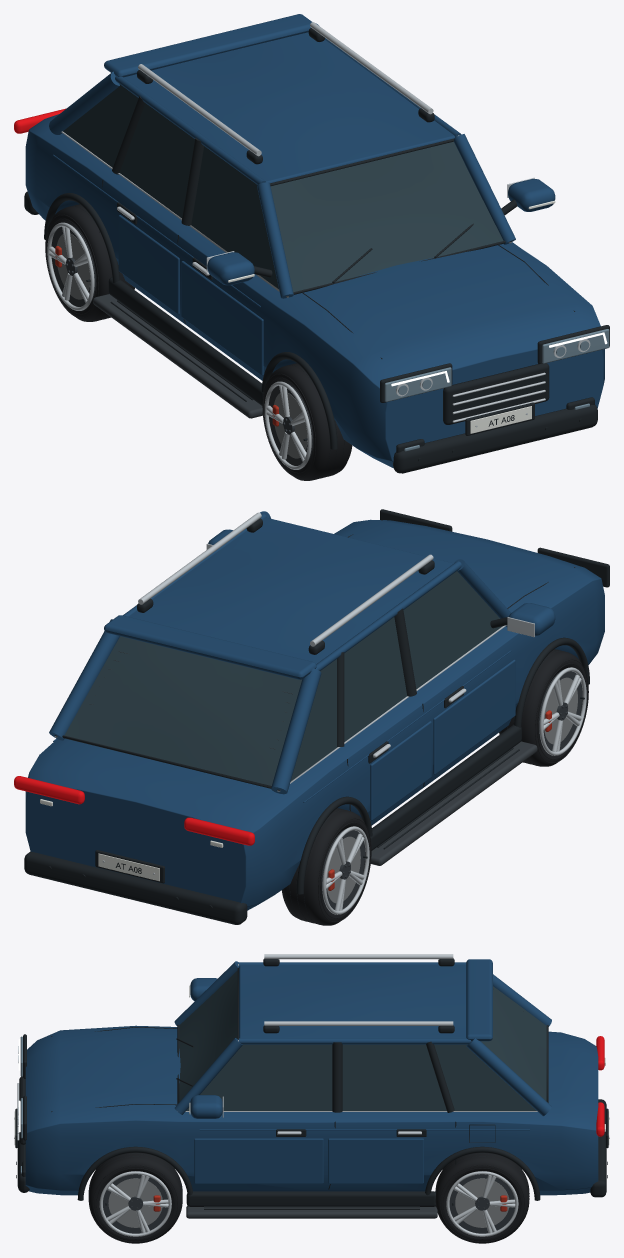
File: suv.glb
3 renders of one model, top to bottom at view 1: azimuth 30°, elevation 25°; view 2: azimuth 150°, elevation 25°; view 3: azimuth 270°, elevation 25°, orthographic. The views are drawn at different scales.
Parts seen in each view (by area): view 1: SUV continuous sculpted body.002, SUV gently crowned roof.002, SUV curved laminated windscreen.002, SUV fitted side glazing.004, SUV pressed door skin.011, SUV front lower valance.002, SUV rear roof spoiler.002, SUV pressed door skin.009, SUV pneumatic tyre.010, SUV rocker sill.005, SUV front radiator grille.002, SUV aluminium running board.004 (+21 smaller); view 2: SUV continuous sculpted body.002, SUV gently crowned roof.002, SUV curved rear screen.002, SUV fitted side glazing.004, SUV rear bumper.002, SUV pressed door skin.011, SUV rear roof spoiler.002, SUV pressed door skin.009, SUV pneumatic tyre.008, SUV rocker sill.005, SUV aluminium running board.004, SUV pneumatic tyre.010 (+24 smaller); view 3: SUV continuous sculpted body.002, SUV fitted side glazing.005, SUV gently crowned roof.002, SUV pressed door skin.010, SUV pressed door skin.008, SUV curved laminated windscreen.002, SUV curved rear screen.002, SUV rocker sill.004, SUV pneumatic tyre.011, SUV pneumatic tyre.009, SUV aluminium running board.005, SUV rear roof spoiler.002 (+23 smaller).
Part boxes in pixels (x1,y1,x2,y2): SUV continuous sculpted body.002: (25,114,604,468); SUV gently crowned roof.002: (124,32,454,183); SUV curved laminated windscreen.002: (270,141,503,292); SUV fitted side glazing.004: (63,84,278,289); SUV pressed door skin.011: (181,261,263,375); SUV front lower valance.002: (393,405,597,473); SUV rear roof spoiler.002: (104,14,311,77); SUV pressed door skin.009: (118,215,179,314); SUV pneumatic tyre.010: (263,363,352,480); SUV rocker sill.005: (108,277,263,405); SUV front radiator grille.002: (443,363,549,424); SUV aluminium running board.004: (93,294,262,418); SUV continuous sculpted body.002: (25,519,604,910); SUV gently crowned roof.002: (128,517,453,663); SUV curved rear screen.002: (64,636,302,785); SUV fitted side glazing.004: (290,571,502,781); SUV rear bumper.002: (24,851,247,924); SUV pressed door skin.011: (433,659,515,774); SUV rear roof spoiler.002: (104,615,316,679); SUV pressed door skin.009: (370,721,431,820); SUV pneumatic tyre.008: (281,808,370,925); SUV rocker sill.005: (370,724,521,850); SUV aluminium running board.004: (371,741,537,865); SUV pneumatic tyre.010: (499,649,587,766); SUV continuous sculpted body.002: (25,1025,598,1195); SUV fitted side glazing.005: (186,1044,536,1110); SUV gently crowned roof.002: (239,964,466,1038); SUV pressed door skin.010: (194,1138,323,1183); SUV pressed door skin.008: (328,1138,423,1183); SUV curved laminated windscreen.002: (179,970,237,1101); SUV curved rear screen.002: (481,986,546,1101); SUV rocker sill.004: (186,1191,435,1206); SUV pneumatic tyre.011: (88,1152,182,1243); SUV pneumatic tyre.009: (435,1152,529,1243); SUV aluminium running board.005: (186,1206,437,1218); SUV rear roof spoiler.002: (466,959,492,1041).
Bounding box in the file's own units: 2.66 × 1.95 × 5.14.
